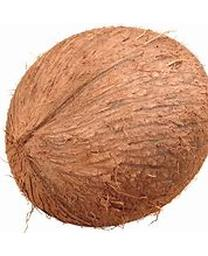coconut: (5, 26, 206, 228)
